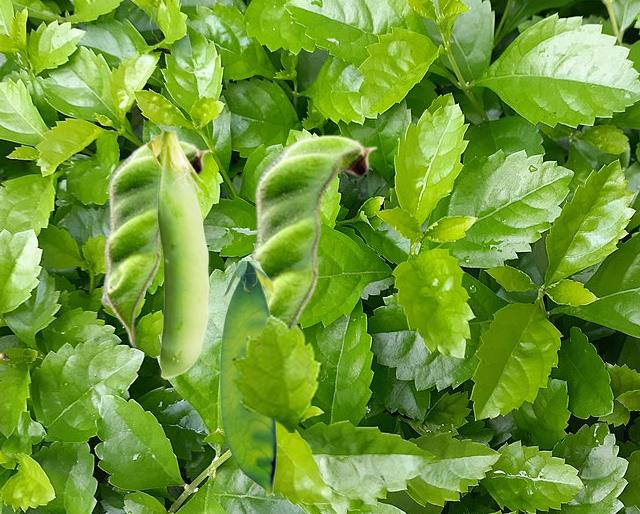pea: (247, 134, 377, 326), (100, 139, 210, 347), (146, 123, 208, 378), (219, 261, 275, 495)
